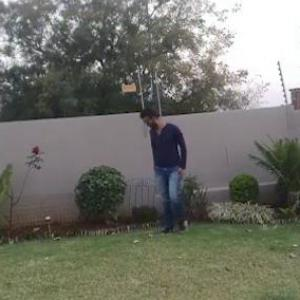follow: (147, 102, 191, 239)
